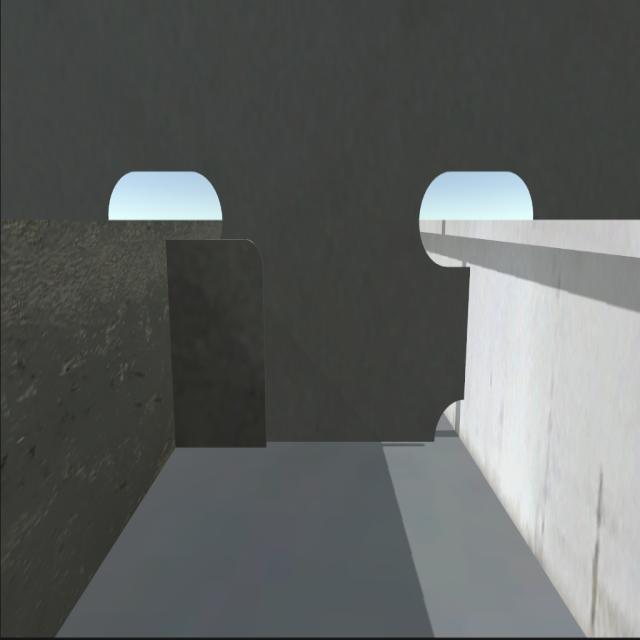fillet_hole: (430, 394, 468, 446)
fillet_yong_jeop_jang: (168, 430, 434, 454)
longi_yong_jeop_jang: (158, 242, 186, 446), (456, 268, 476, 400)
plate_CP05: (168, 239, 268, 452)
